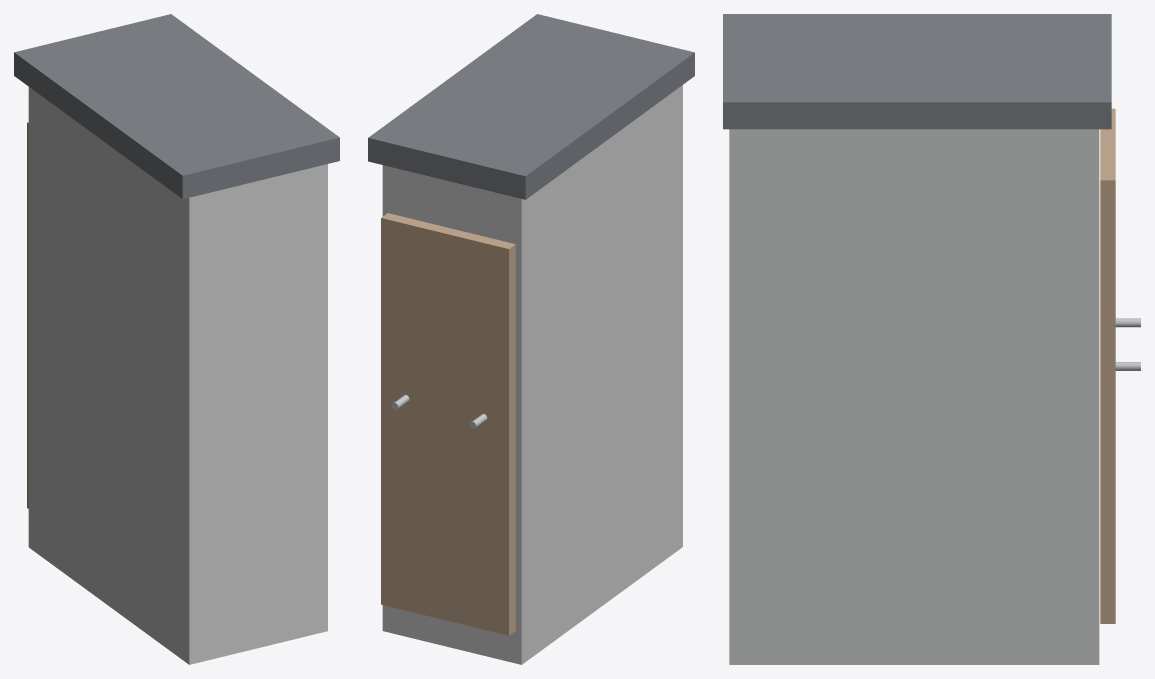
Rendered from kitchen-base-300.glb.
3 views of the same model, side by side, from view 1: azimuth 30°, elevation 25°; view 2: azimuth 150°, elevation 25°; view 3: azimuth 270°, elevation 25° (orthographic). The views are drawn at different scales.
Parts seen in each view (by area): view 1: cabinet_0, worktop_2, front_1; view 2: cabinet_0, front_1, worktop_2; view 3: cabinet_0, worktop_2, front_1.
Part boxes in pixels (x1,y1,x2,y2): cabinet_0: (28, 87, 327, 664); worktop_2: (14, 14, 339, 199); front_1: (27, 122, 28, 508); cabinet_0: (382, 85, 682, 664); front_1: (381, 213, 515, 635); worktop_2: (368, 14, 694, 199); cabinet_0: (729, 129, 1099, 664); worktop_2: (723, 14, 1111, 129); front_1: (1100, 108, 1115, 623).
Bounding box in the file's own units: 0.3 × 0.9 × 0.6.
